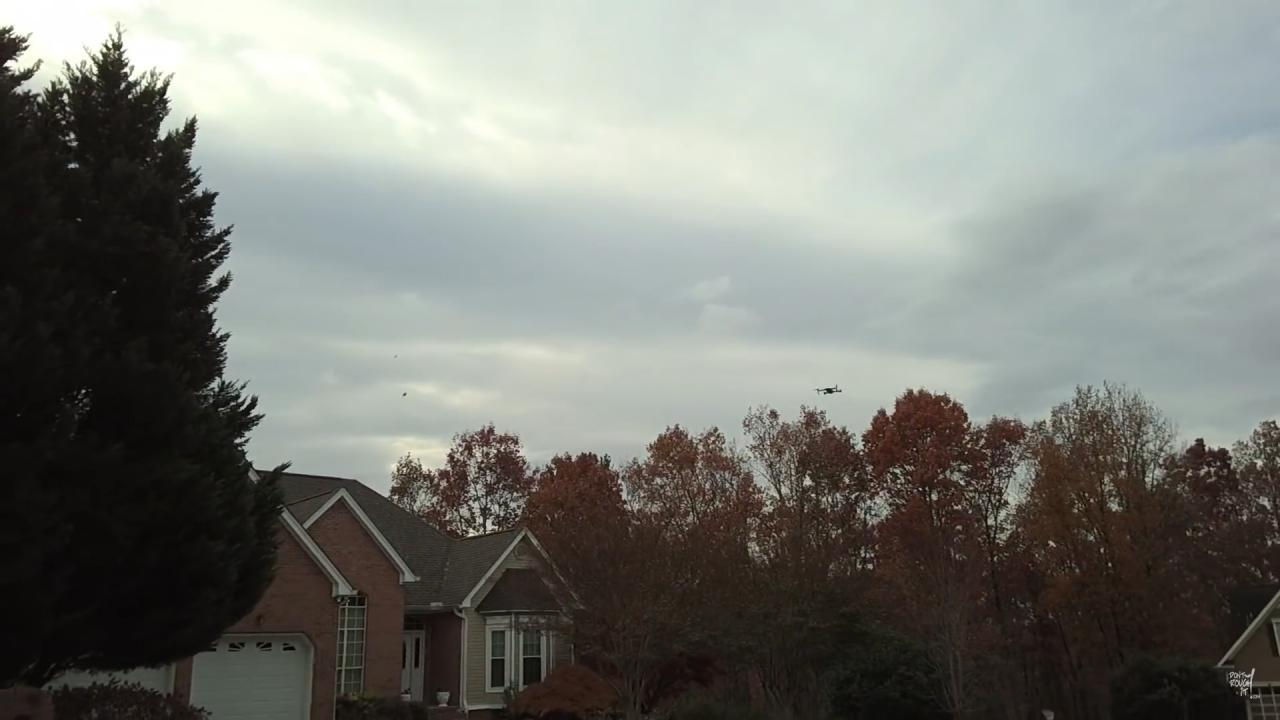Drone: (806, 374, 853, 408)
